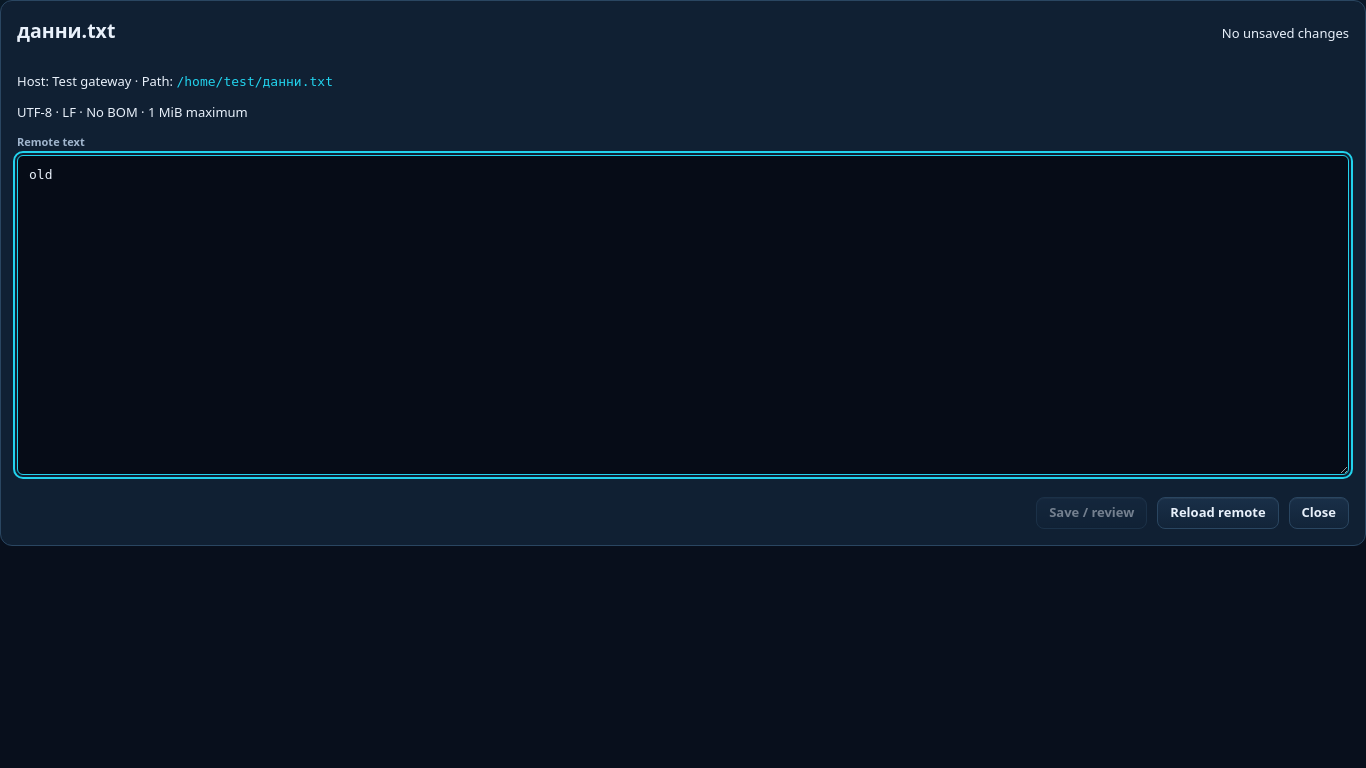
Scenario: remote text editor authority and interaction › keeps review disabled until discard confirms and plans the latest buffer snapshot
Later steps or results of the test are not shown.
Type "A" into the text box labelled "Remote text" at (683, 315), box [17,155,1349,475]
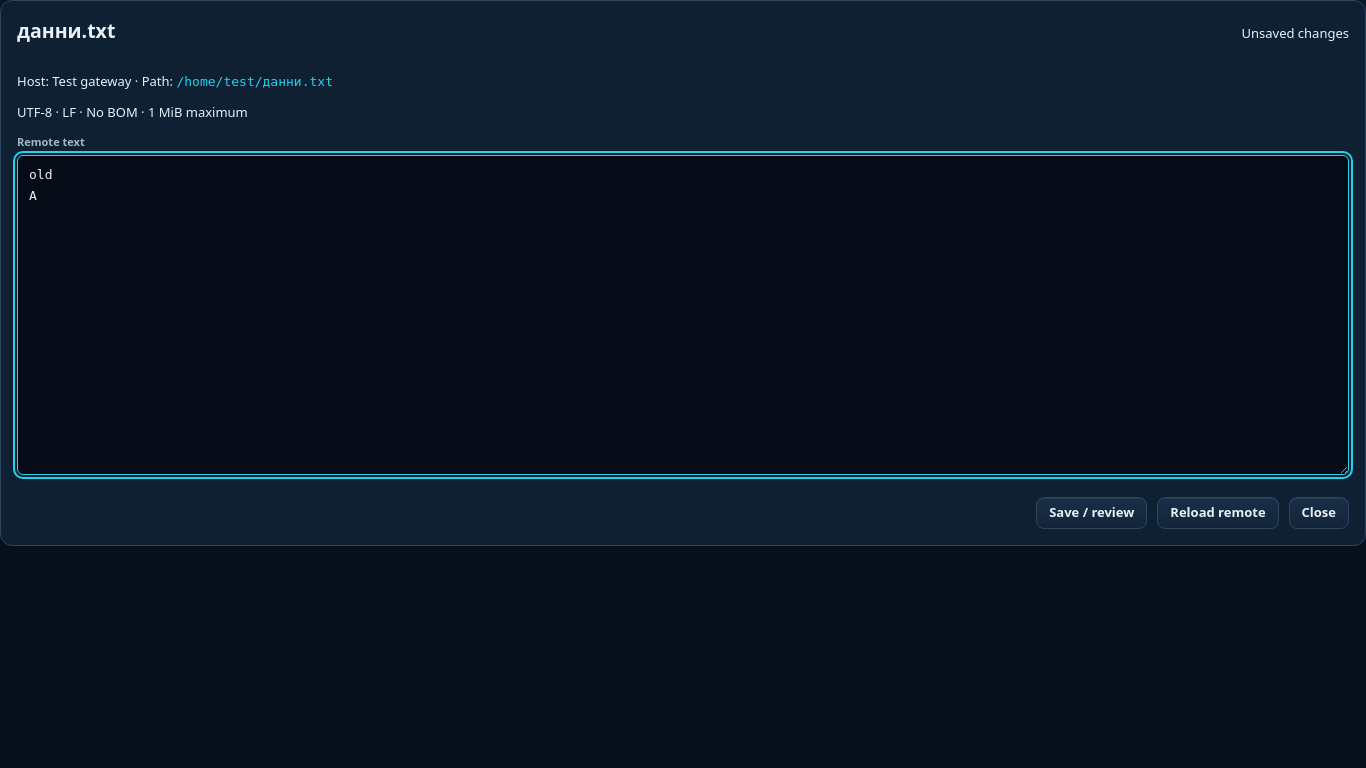
Click the button "Save / review" at (1092, 513), box [1036,497,1147,529]
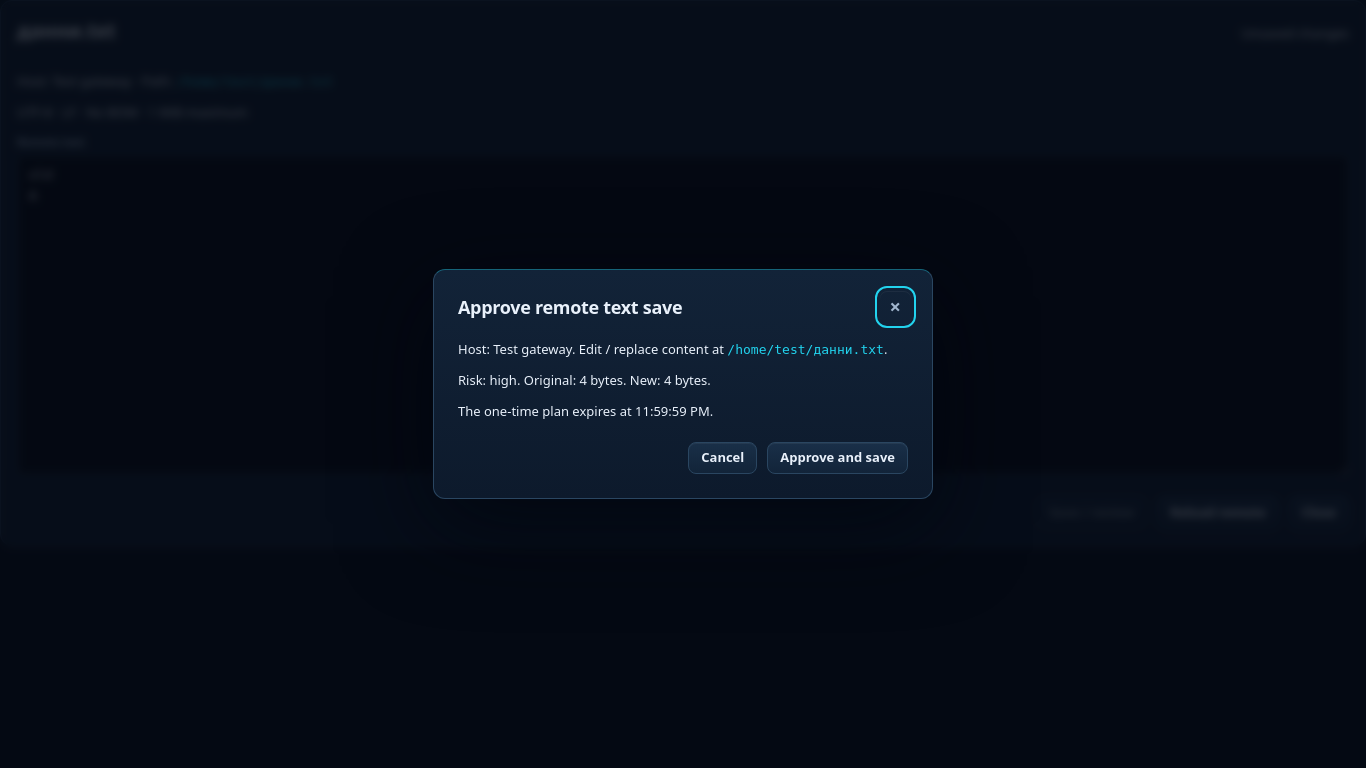
Expected: the dialog "Approve remote text save" is shown, [433,269,933,499]
Click the button named "Close dialog" at (895, 307), box [878,290,912,324]
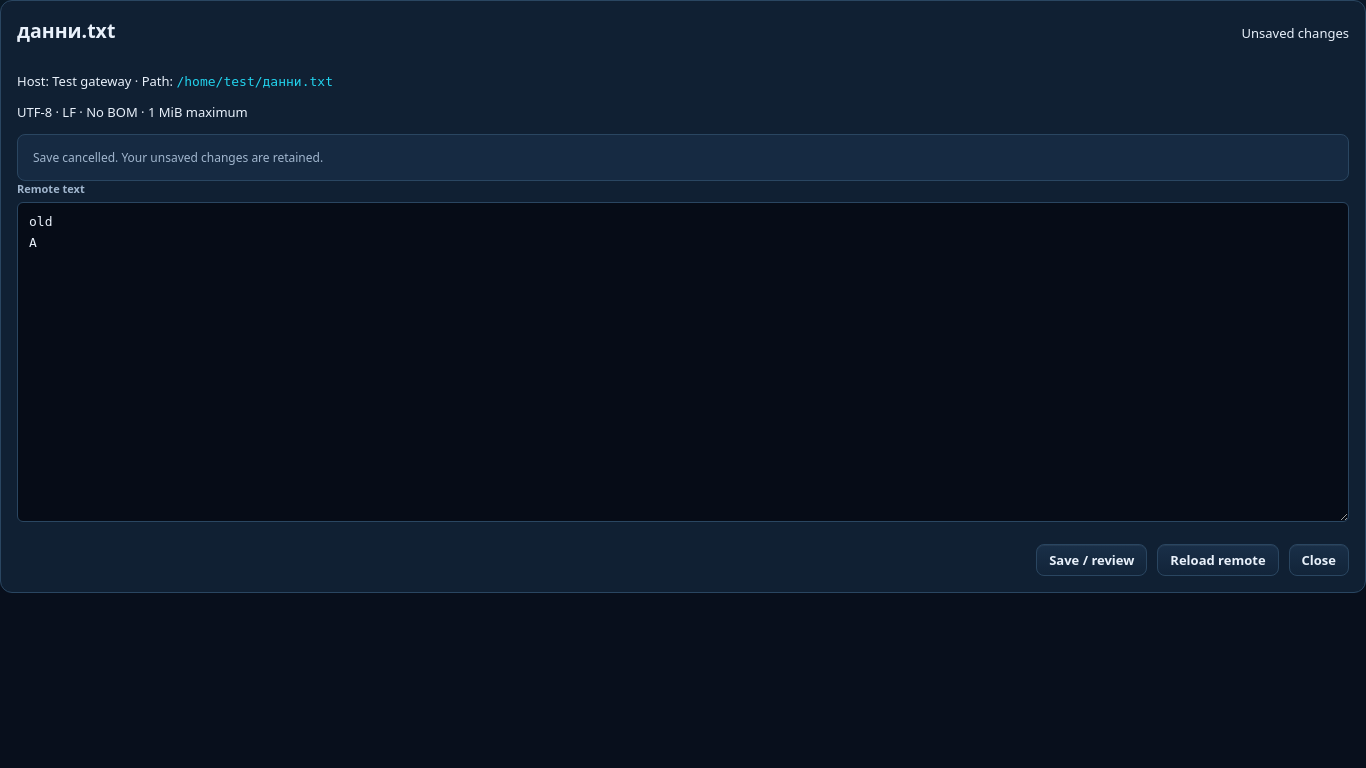
Expected: the button "Save / review" is enabled, [1036,544,1147,576]
Type "B" into the text box labelled "Remote text" at (683, 362), box [17,202,1349,522]
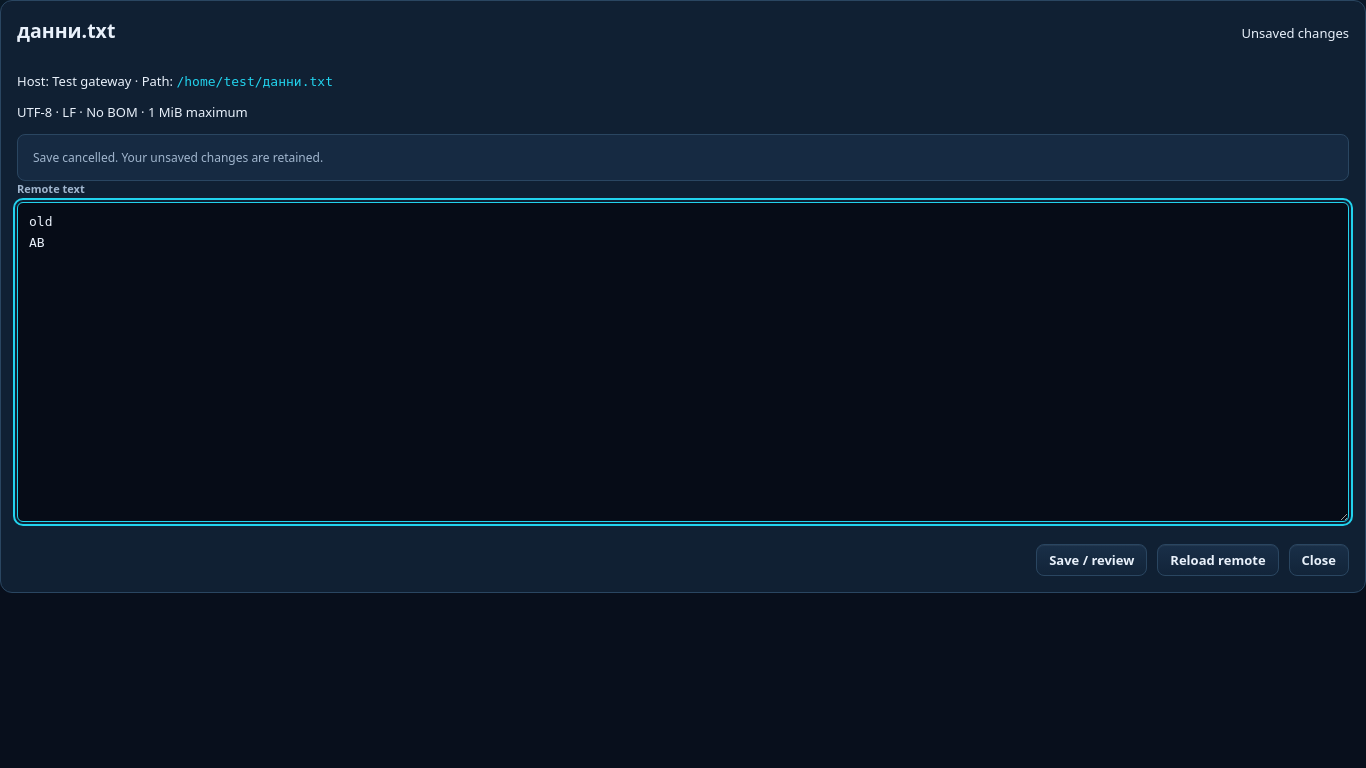
Click the button "Save / review" at (1092, 560), box [1036,544,1147,576]
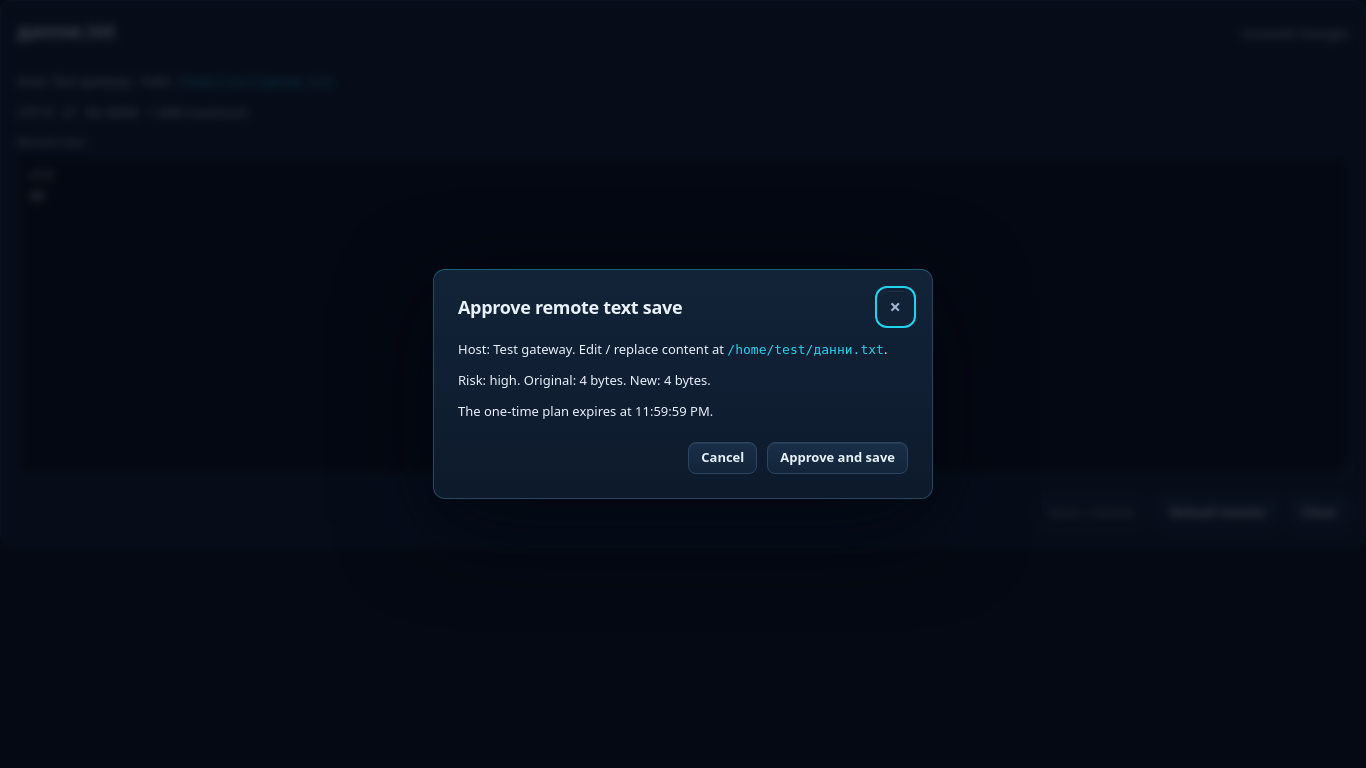
Expected: the dialog "Approve remote text save" is shown, [433,269,933,499]
